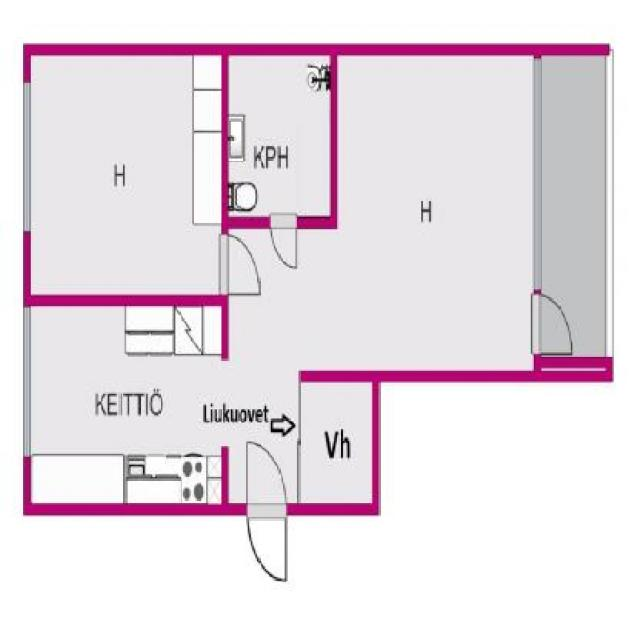door: (246, 440, 292, 588), (531, 290, 577, 356), (220, 234, 263, 303), (269, 214, 303, 274)
window: (534, 55, 541, 288), (23, 306, 32, 457), (23, 83, 31, 235)
zone: (31, 56, 534, 507), (32, 52, 222, 294), (542, 51, 608, 355), (228, 54, 332, 217), (298, 377, 372, 501)
